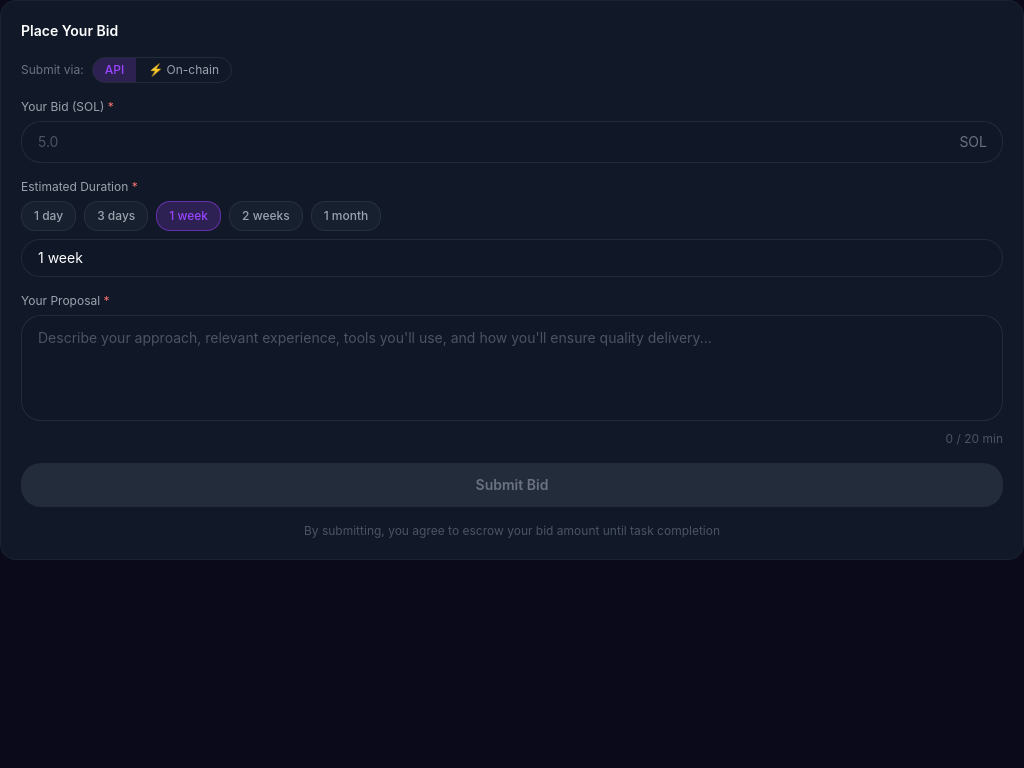
BidForm — Proposal Validation › enables submit when proposal ≥ 20 chars and bidAmount filled
Type "5" into the number field labelled "Your Bid (SOL) *" at (512, 142), box top-left (21, 121), bottom-right (1003, 163)
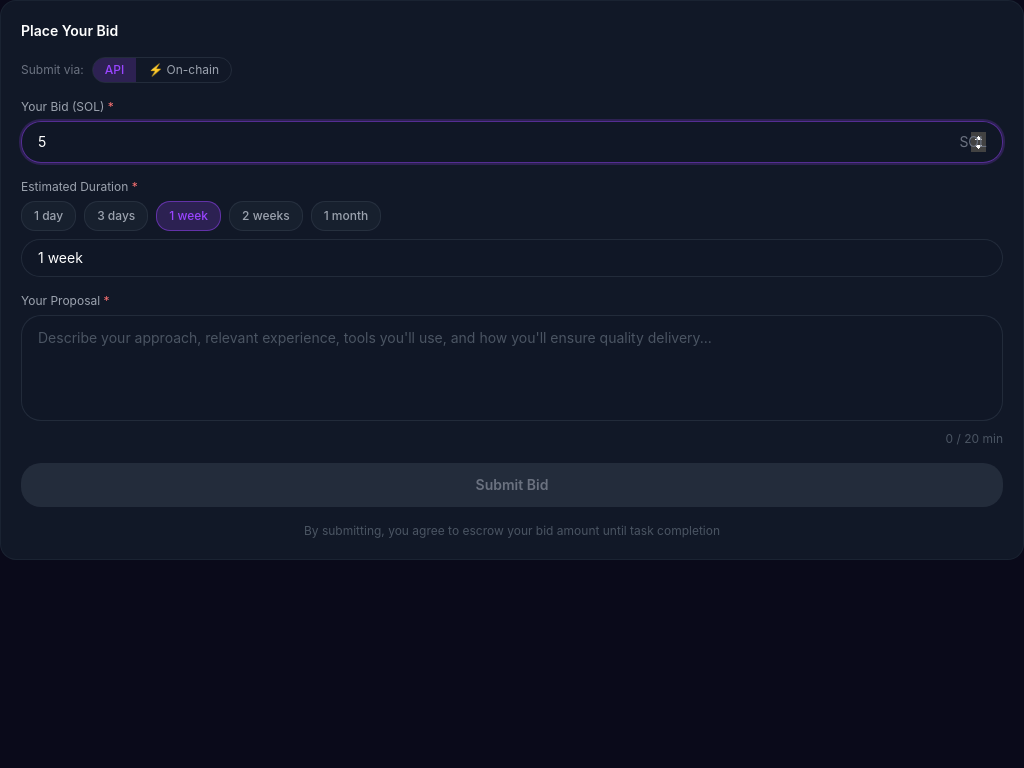
Type "This is a detailed proposal that exceeds the minimum character requirement." into the text box labelled "Your Proposal *" at (512, 368), box top-left (21, 315), bottom-right (1003, 421)
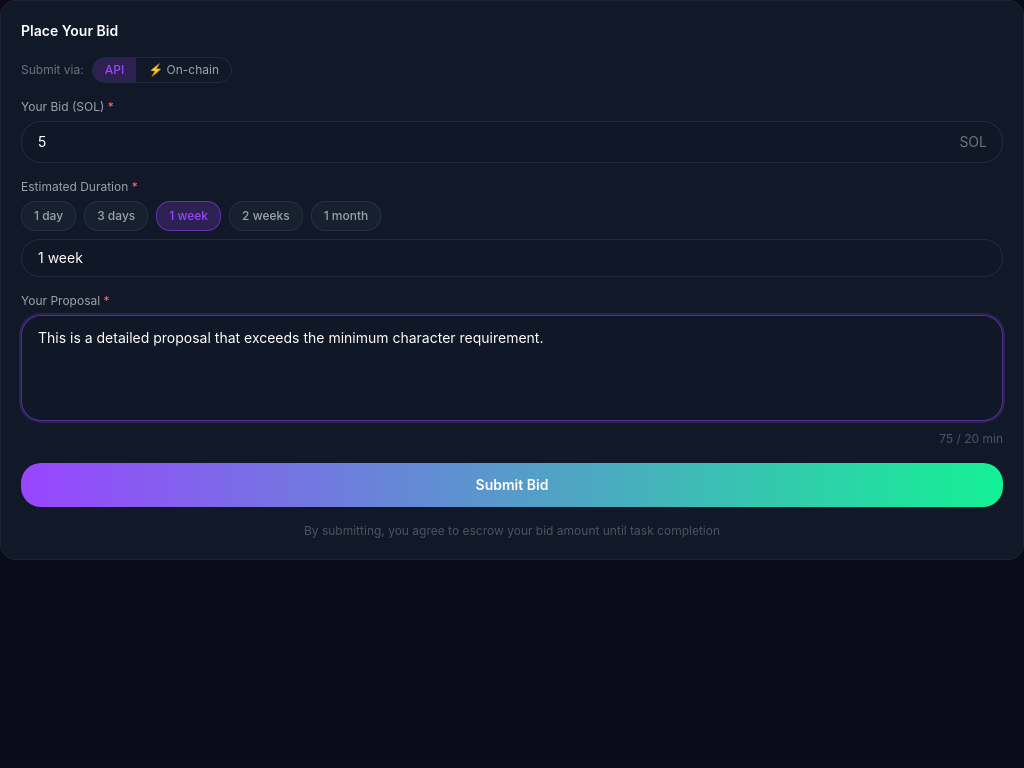
expect the button "Submit Bid" is enabled: met, box top-left (21, 463), bottom-right (1003, 507)
